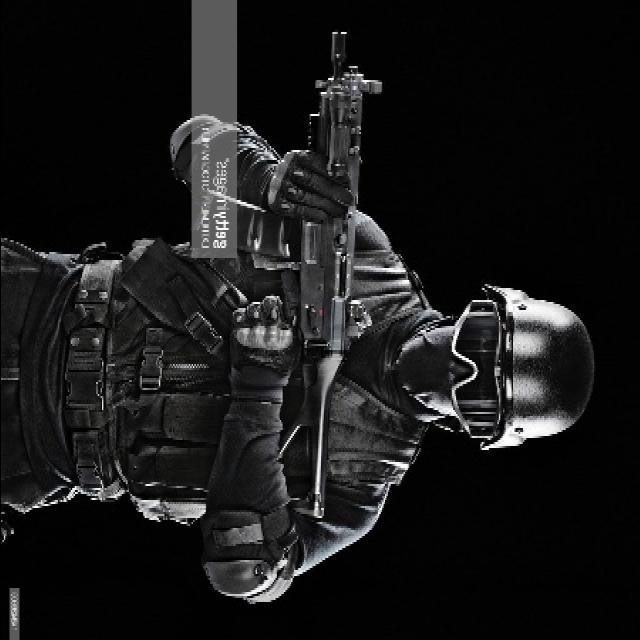rifle: (256, 37, 388, 527)
